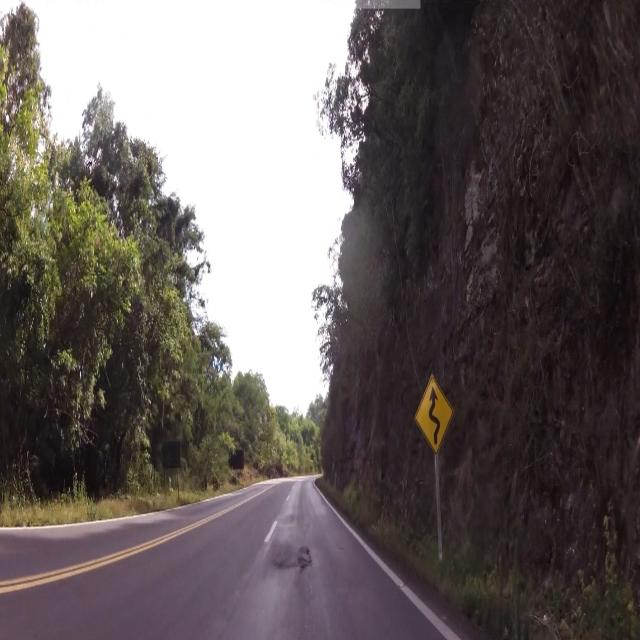A-3b: (412, 371, 462, 455)
